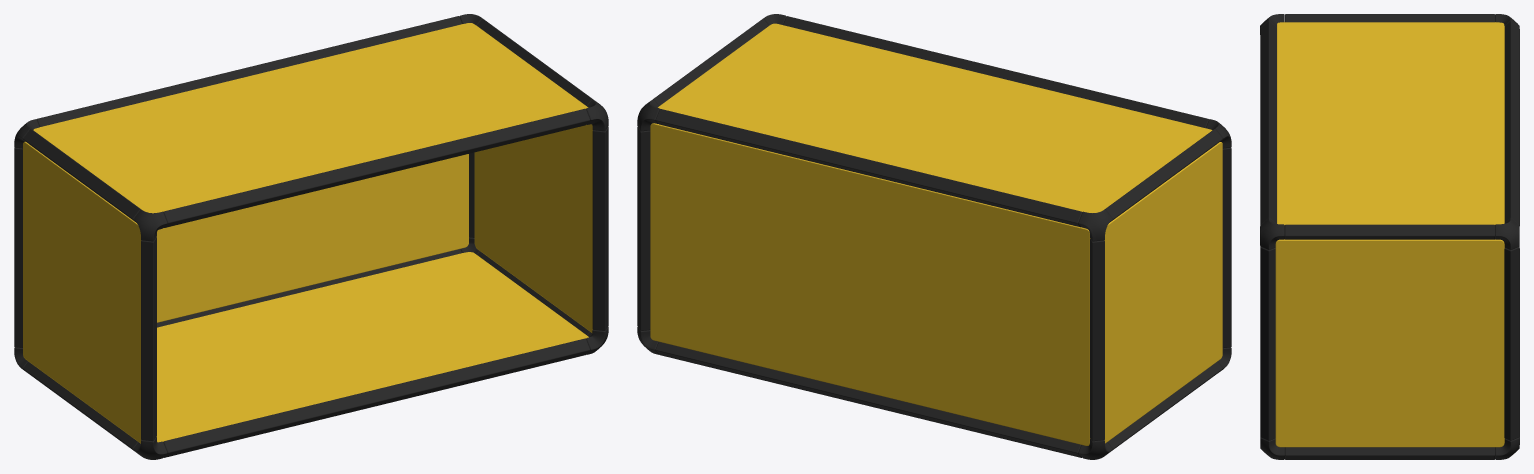
3 views of the same model, side by side, from view 1: azimuth 30°, elevation 25°; view 2: azimuth 150°, elevation 25°; view 3: azimuth 270°, elevation 25° (orthographic). The views are drawn at different scales.
Parts seen in each view (by area): view 1: 729x329x329; view 2: 729x329x329; view 3: 729x329x329.
Part boxes in pixels (box(x1,y1,x2,y2)): 729x329x329: box(14, 14, 608, 459); 729x329x329: box(637, 14, 1231, 459); 729x329x329: box(1260, 14, 1519, 459).
Size of the model in its own units: 0.8067 by 0.4066 by 0.4063.
